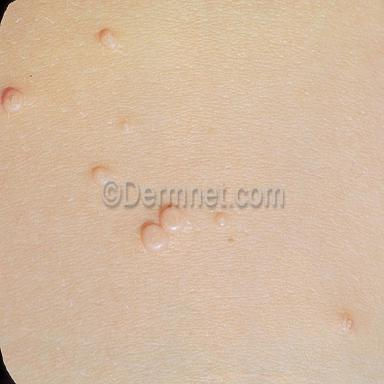Molluscum-Contagiosum: (141, 206, 185, 252), (3, 89, 22, 113), (93, 166, 111, 186), (100, 30, 117, 50), (343, 315, 355, 334), (218, 211, 228, 227), (123, 123, 129, 132)
